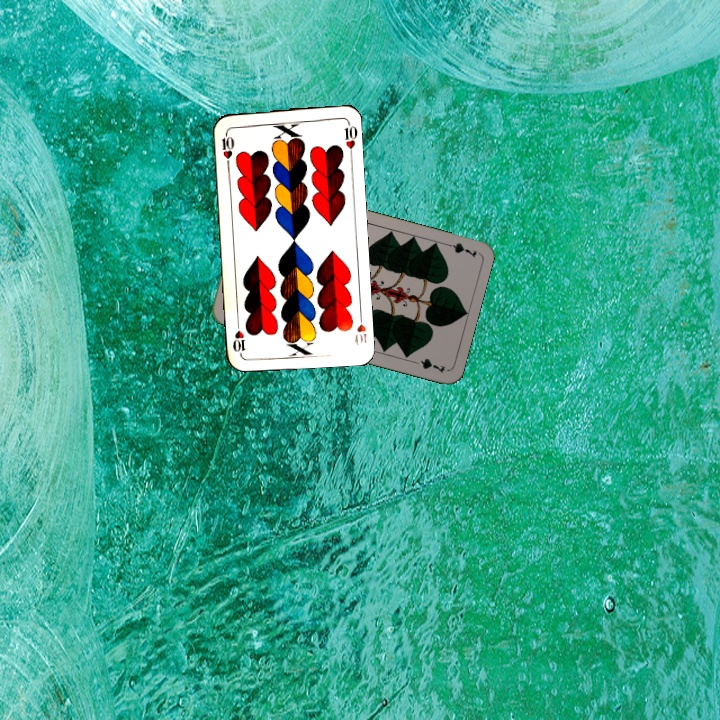G7: (439, 239, 479, 260)
H10: (218, 127, 237, 168), (351, 308, 369, 348)
